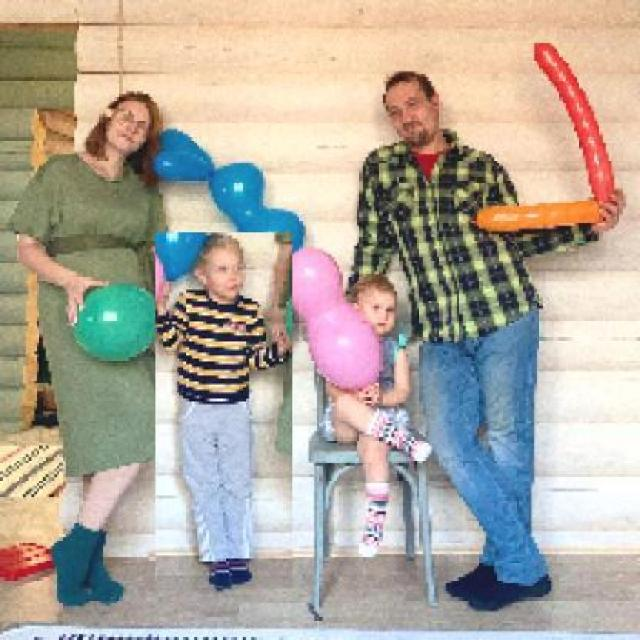child: (154, 233, 292, 590), (320, 272, 431, 558)
